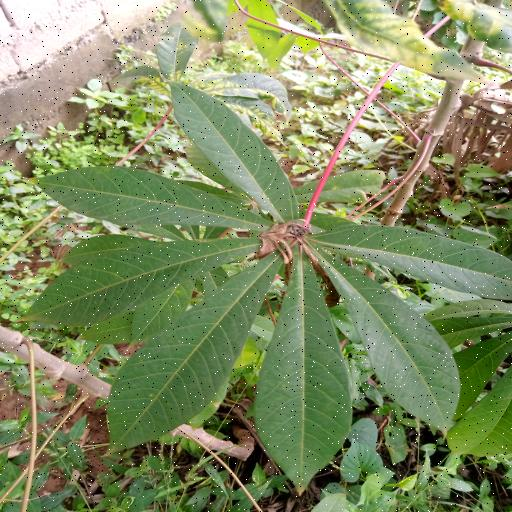Cassava_Healthy: (24, 80, 512, 494)
